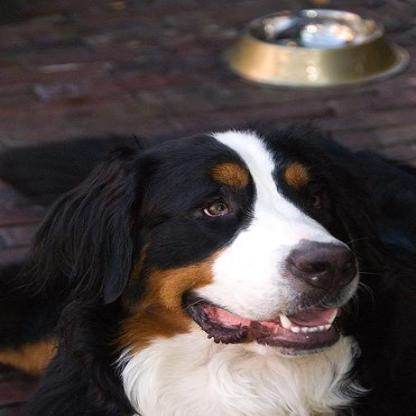Bernese_mountain_dog: (12, 125, 364, 413)
